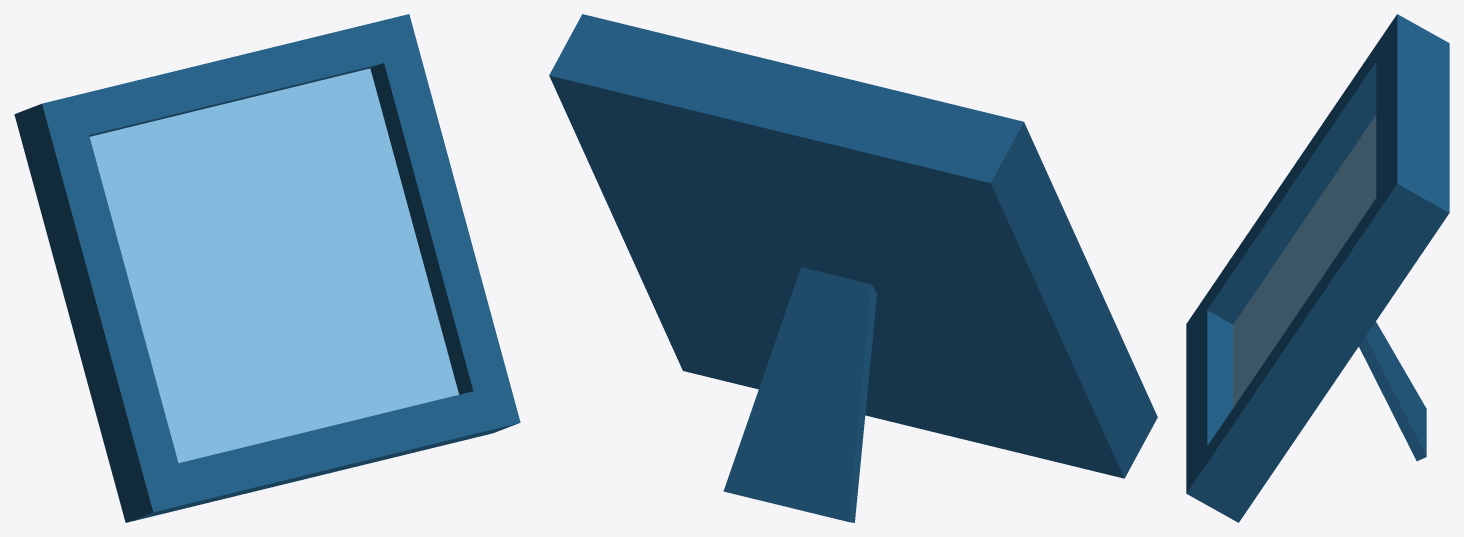
Rendered from Frame.fbx.
3 renders of one model, left to right at view 1: azimuth 30°, elevation 25°; view 2: azimuth 150°, elevation 25°; view 3: azimuth 270°, elevation 25°, orthographic. The views are drawn at different scales.
Visible parts, largest first — view 1: Frame; view 2: Frame; view 3: Frame.
Part boxes in pixels (<box>): Frame: <box>14,14,520,522</box>; Frame: <box>549,14,1157,522</box>; Frame: <box>1186,14,1449,522</box>.
Size of the model in its own units: 0.2355 by 0.2194 by 0.1543.
